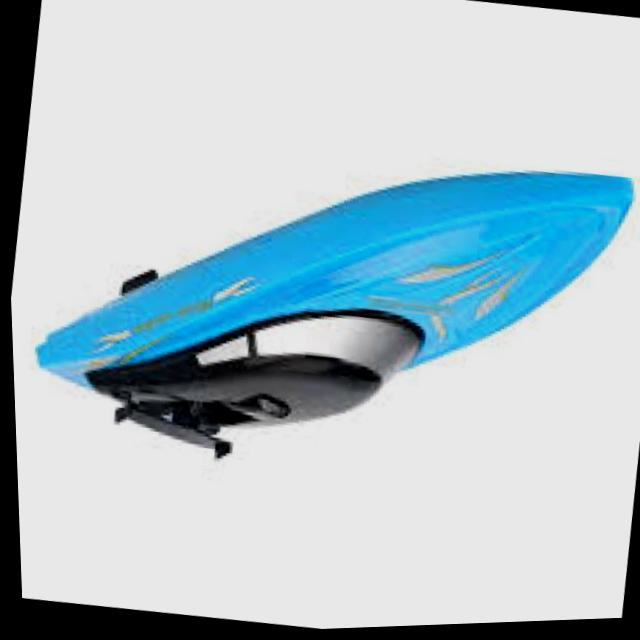ship2: (31, 174, 634, 459)
